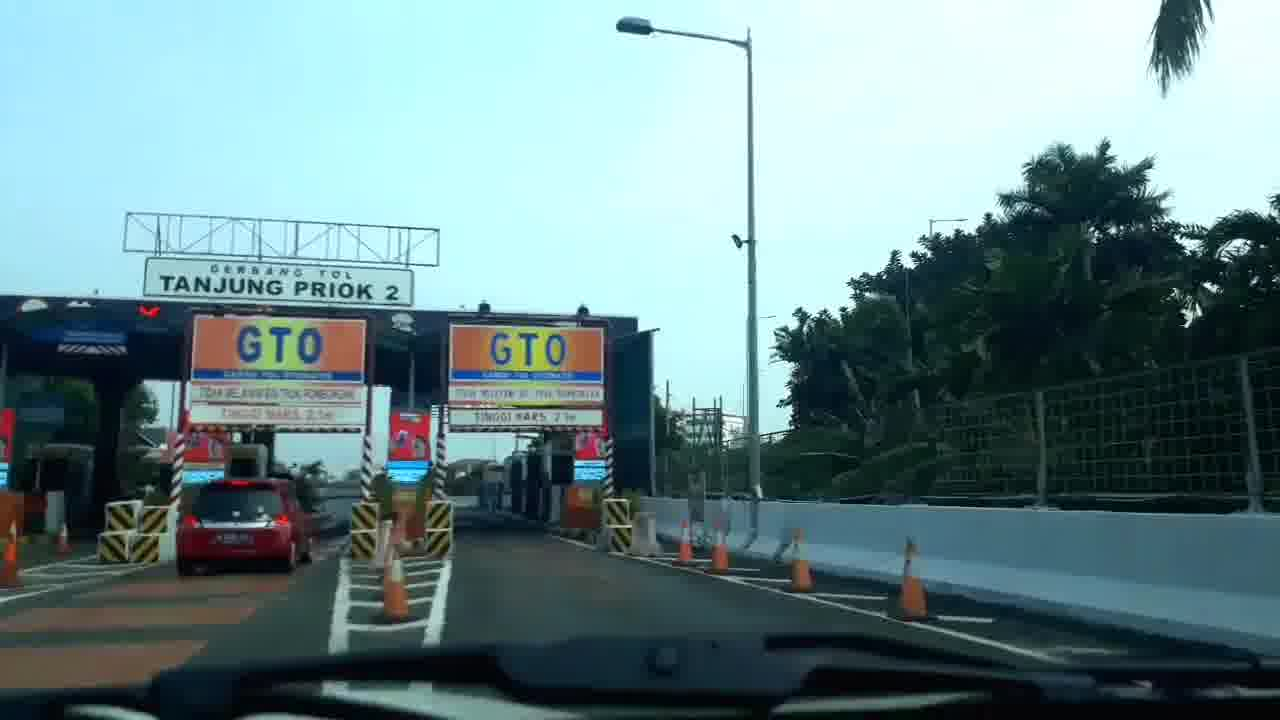plate_positive: (215, 532, 254, 546)
